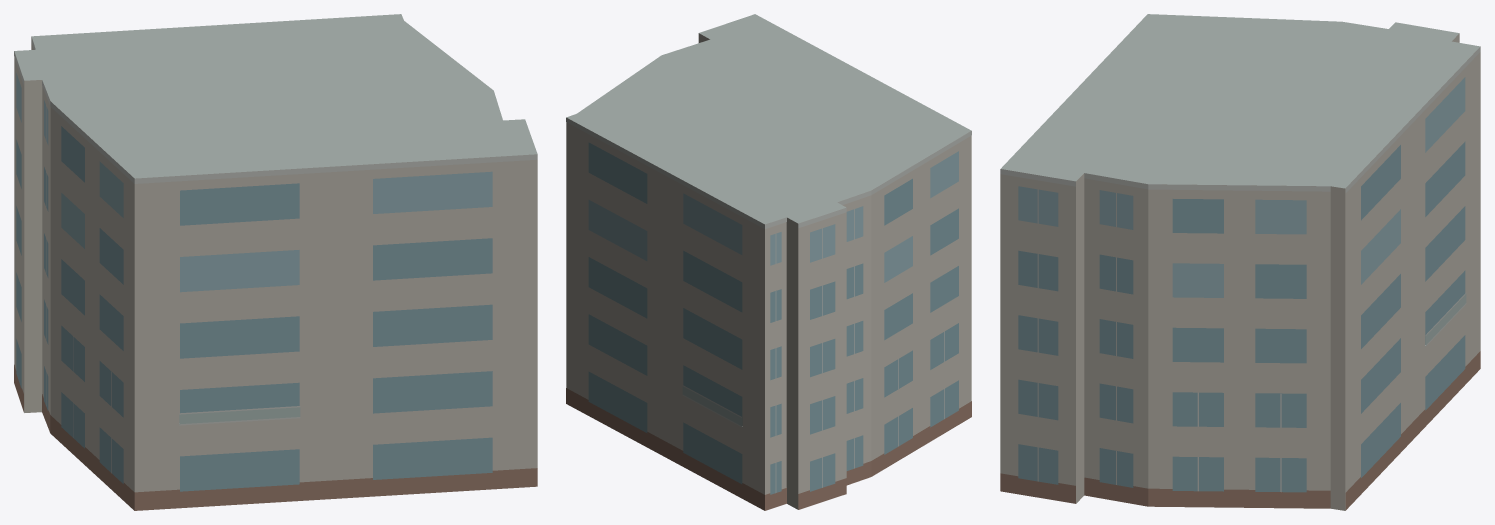
The model's file is survey-upis-32603918.glb.
The picture shows the model from 3 angles, left to right: view 1: azimuth 30°, elevation 25°; view 2: azimuth 150°, elevation 25°; view 3: azimuth 270°, elevation 25°; orthographic projection. The views are drawn at different scales.
Parts seen in each view (by area): view 1: survey-upis-32603918.tmp; view 2: survey-upis-32603918.tmp; view 3: survey-upis-32603918.tmp.
Boxes of the visible parts, x1,y1,x2,y2 form: survey-upis-32603918.tmp: (14, 14, 537, 510); survey-upis-32603918.tmp: (566, 14, 971, 510); survey-upis-32603918.tmp: (1000, 14, 1480, 510).
Size of the model in its own units: 17.24 by 14.85 by 20.05.
